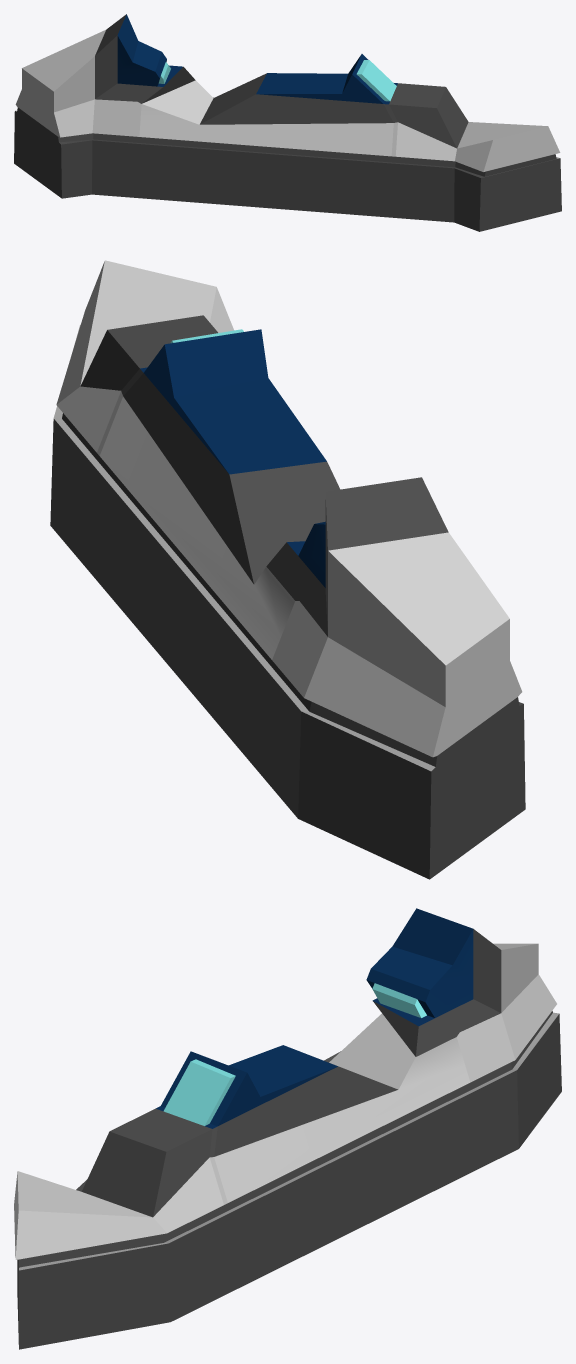
Rendered from Outer_Wall_Corner_Destroyed_C.fbx.
The picture shows the model from 3 angles, top to bottom: view 1: azimuth 30°, elevation 25°; view 2: azimuth 150°, elevation 25°; view 3: azimuth 270°, elevation 25°; orthographic projection. The views are drawn at different scales.
Parts seen in each view (by area): view 1: Outer_Corner_Wall_Destroyed_C; view 2: Outer_Corner_Wall_Destroyed_C; view 3: Outer_Corner_Wall_Destroyed_C.
Part boxes in pixels (x1=…): Outer_Corner_Wall_Destroyed_C: x1=14, y1=14, x2=561, y2=231; Outer_Corner_Wall_Destroyed_C: x1=50, y1=260, x2=525, y2=879; Outer_Corner_Wall_Destroyed_C: x1=14, y1=908, x2=561, y2=1349.
Bounding box in the file's own units: 5.51 × 4.94 × 2.2.
